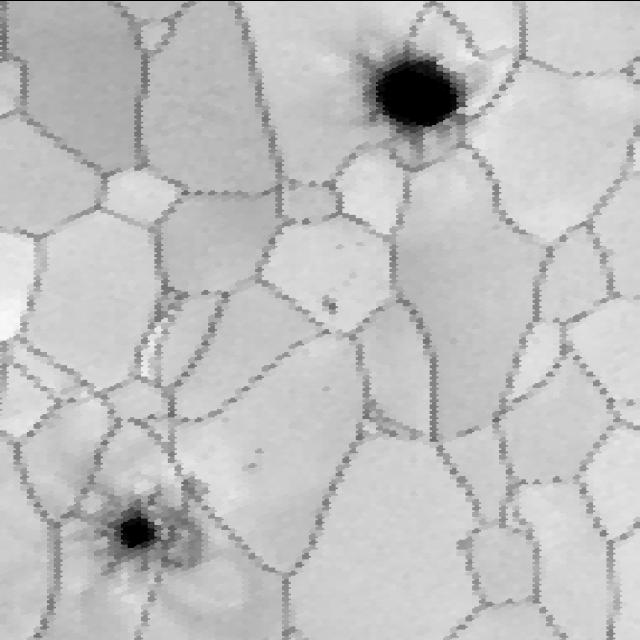good_void: (337, 37, 477, 169), (61, 465, 228, 573), (318, 293, 343, 316), (276, 624, 309, 640), (340, 269, 359, 286), (619, 395, 639, 409), (240, 461, 259, 472), (330, 240, 345, 251), (317, 384, 334, 393), (251, 445, 265, 454), (352, 240, 366, 246)
